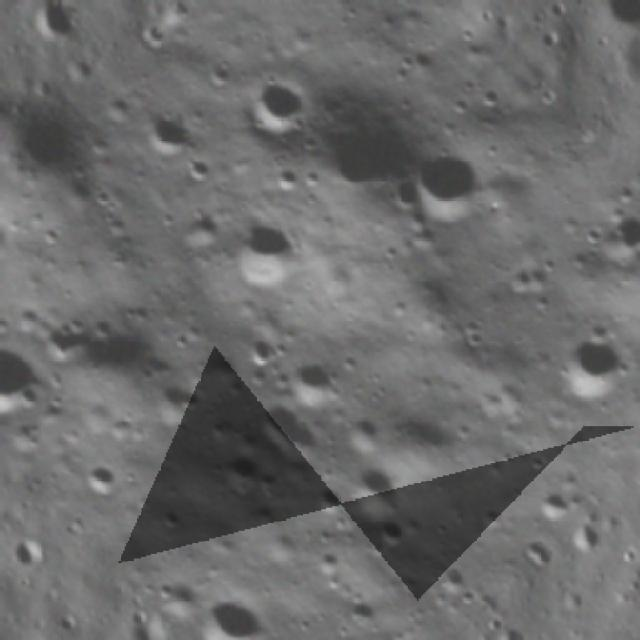crater: (305, 88, 420, 204), (404, 138, 490, 224), (221, 210, 302, 292), (242, 66, 320, 143), (136, 94, 212, 171), (575, 197, 640, 286), (252, 396, 328, 472), (180, 583, 275, 640), (0, 324, 51, 424), (560, 333, 628, 402), (340, 451, 406, 517), (206, 445, 268, 506), (288, 348, 344, 406), (364, 512, 410, 558), (302, 480, 344, 522), (78, 457, 119, 498), (382, 177, 422, 217), (0, 203, 20, 282)
